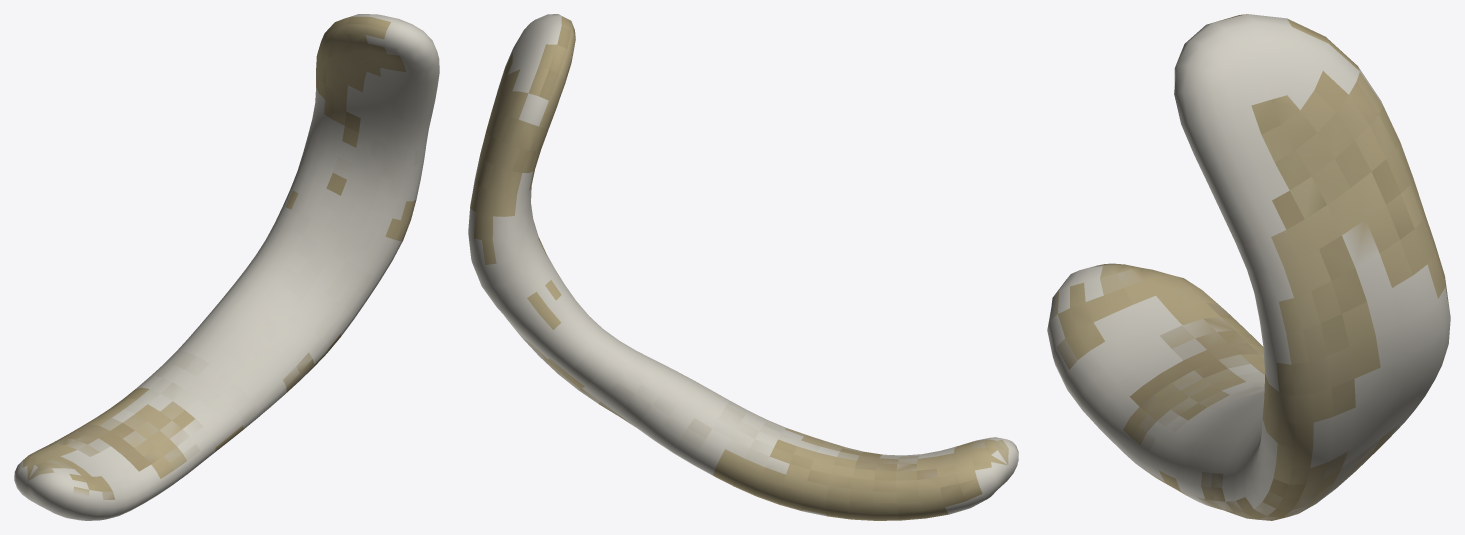
3 views of the same model, side by side, from view 1: azimuth 30°, elevation 25°; view 2: azimuth 150°, elevation 25°; view 3: azimuth 270°, elevation 25° (orthographic). The views are drawn at different scales.
Visible parts, largest first — view 1: CC L02; view 2: CC L02; view 3: CC L02.
Boxes of the visible parts, x1=… form: CC L02: x1=14, y1=14, x2=439, y2=520; CC L02: x1=468, y1=14, x2=1018, y2=520; CC L02: x1=1047, y1=14, x2=1450, y2=520.
Bounding box in the file's own units: 5.91 × 5.07 × 2.83.
